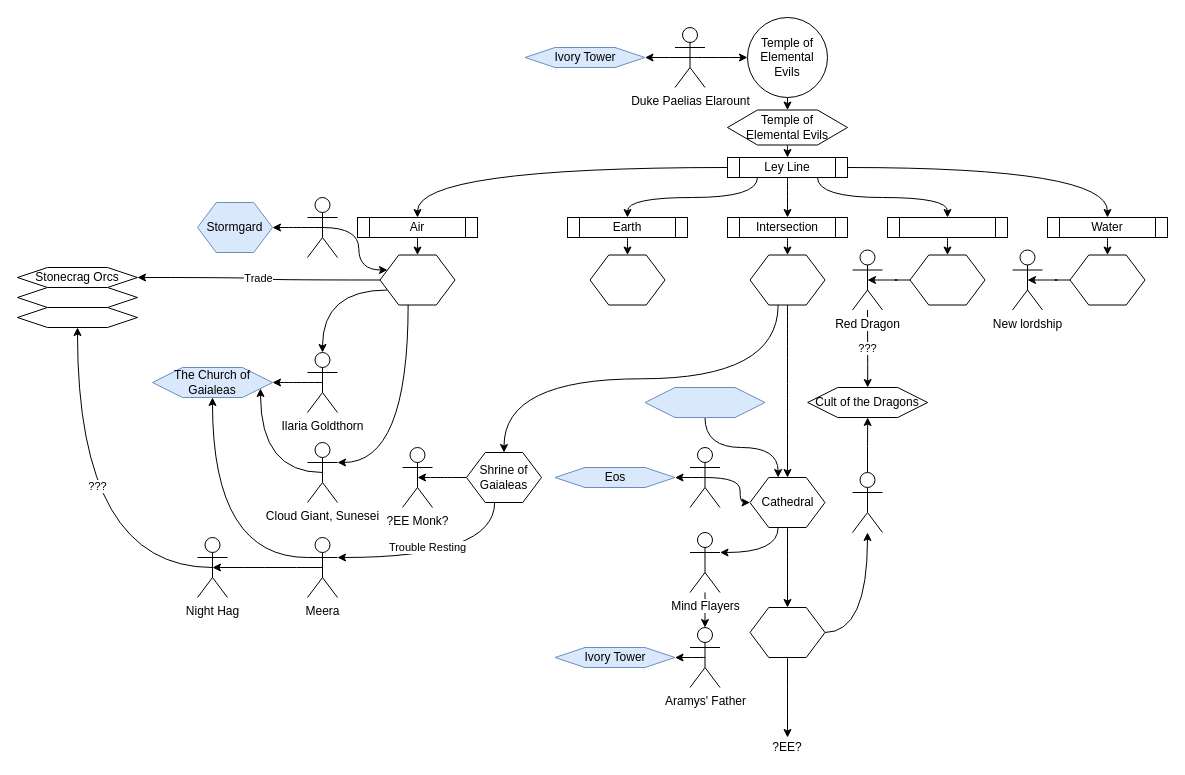
This 1185x775 diagram has some shape labels left out. Here are the shapes that lost their labels. From the top down, the centre of each, then its label:
point 322,227: Lady Grey
point 947,227: Fire
point 77,297: Aloof giants
point 417,279: Floren
point 627,279: Cobblebrook
point 787,279: Fellkeep
point 947,279: Vitae
point 1107,279: Iron Keep
point 77,317: Hags
point 704,402: Monastery of Khormak
point 704,477: Sister Raquelle
point 867,502: Blue Dragon
point 787,632: Portal of Lightning
